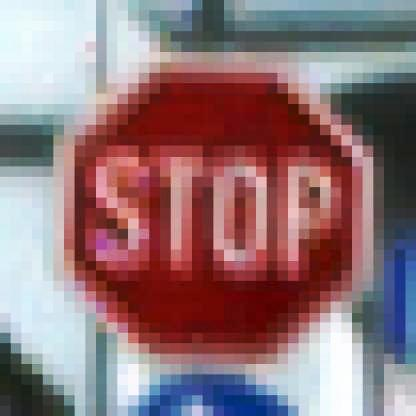Stop Sign: (51, 56, 378, 360)
